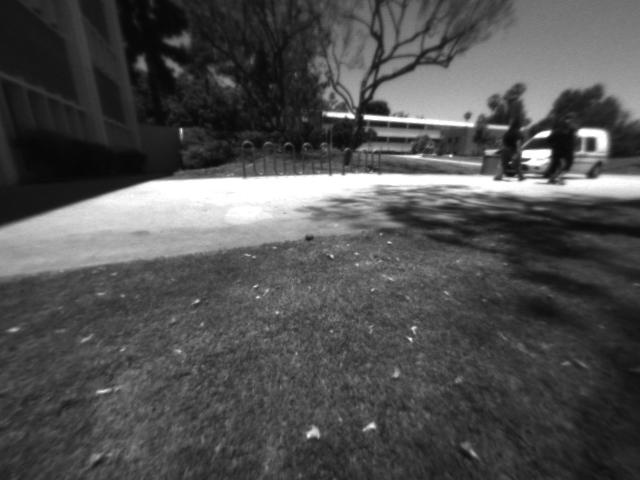dogtoy: (298, 226, 325, 246)
